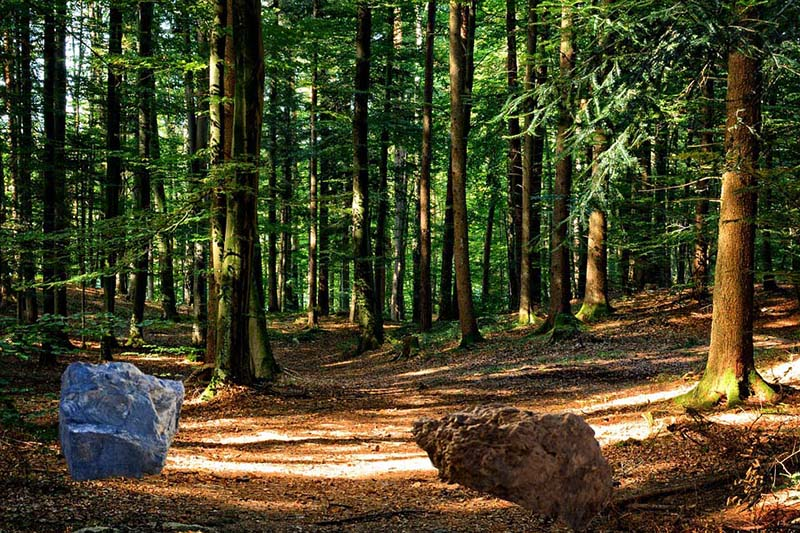Rocks: (405, 394, 623, 533), (49, 357, 192, 483)
